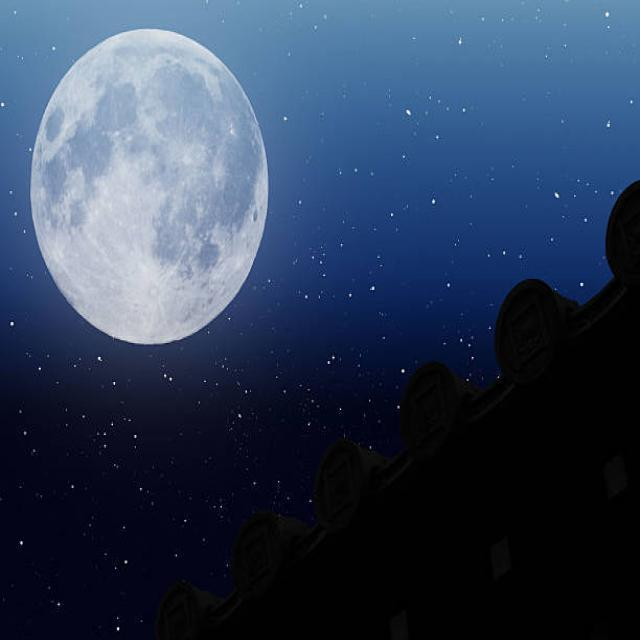moon: (32, 25, 270, 346)
